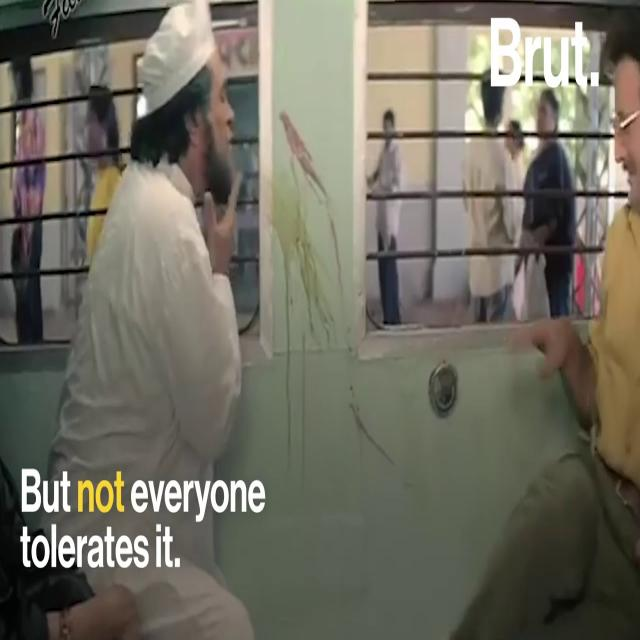spit: (124, 2, 360, 318)
